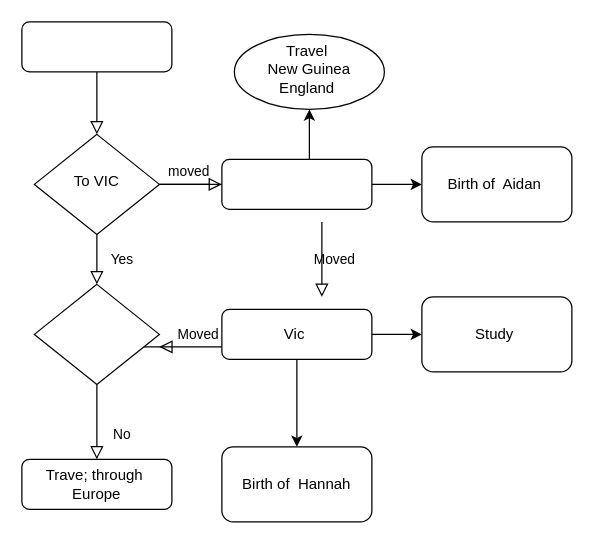
This 594x544 diagram has some shape labels left out. The centre of each missing label's shape, as x and y in pixels:
East Gippsland: point (96, 333)
Moved from QLD: point (96, 46)
NSW Wagga Wagga: point (296, 183)
